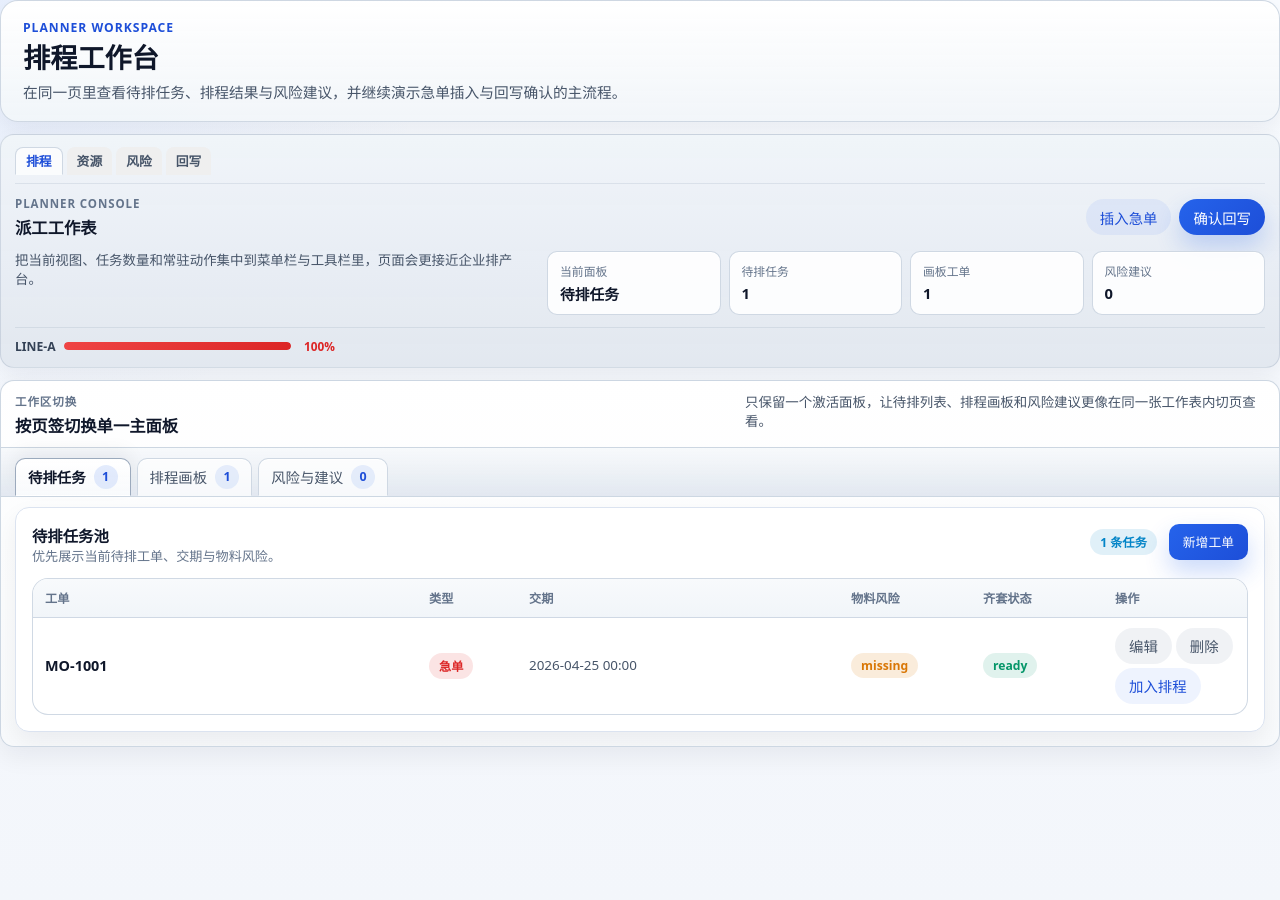
Test: PlannerWorkbenchView integration › 发布后首次查状态失败，再次打开弹窗刷新成功后会显示后端新状态
The width and height of the screenshot is (1280, 900).
Click the button with test id "open-publish-dialog" at (1222, 217), box [1179,199,1265,235]
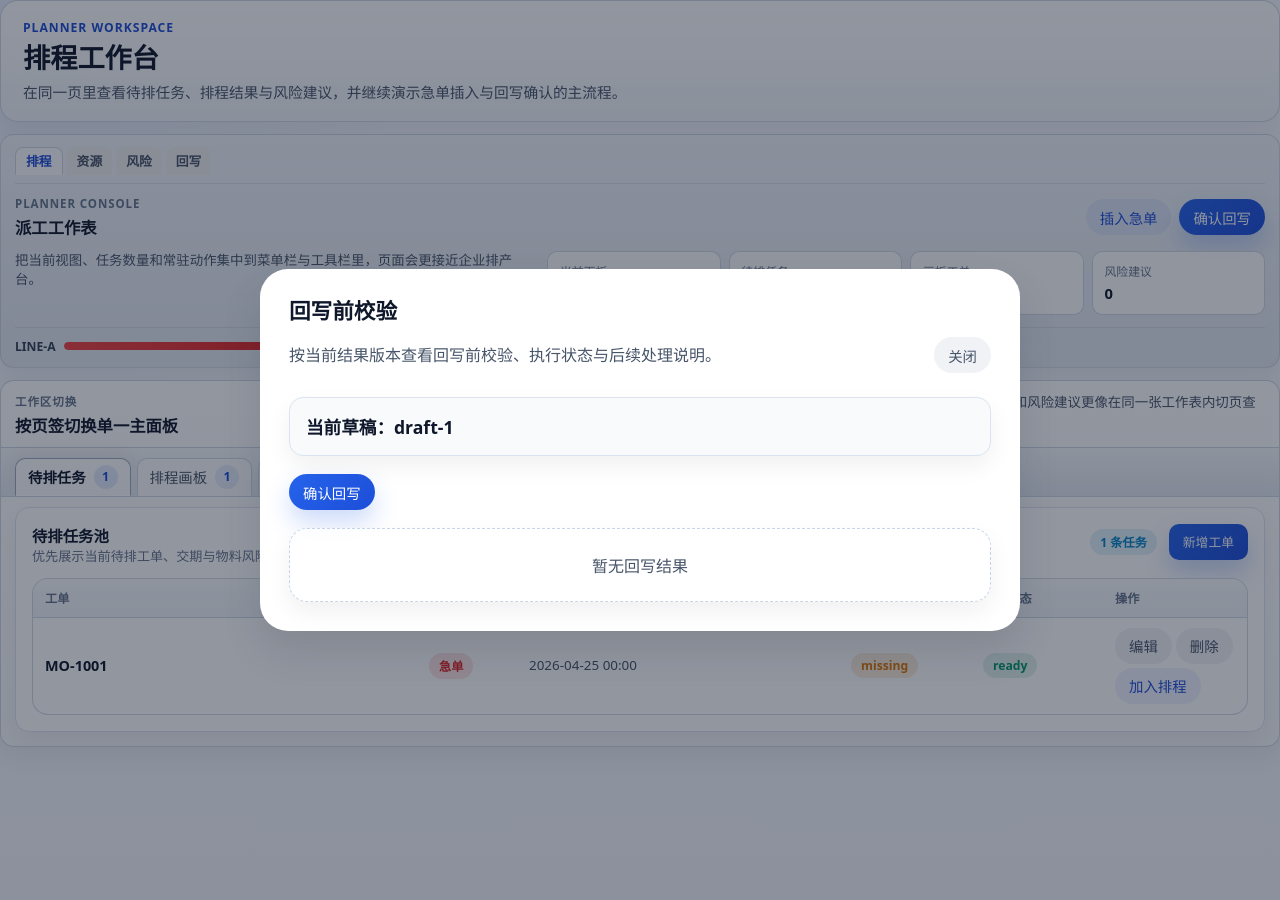
Click the button with test id "confirm-publish" at (332, 492), box [289,474,375,510]
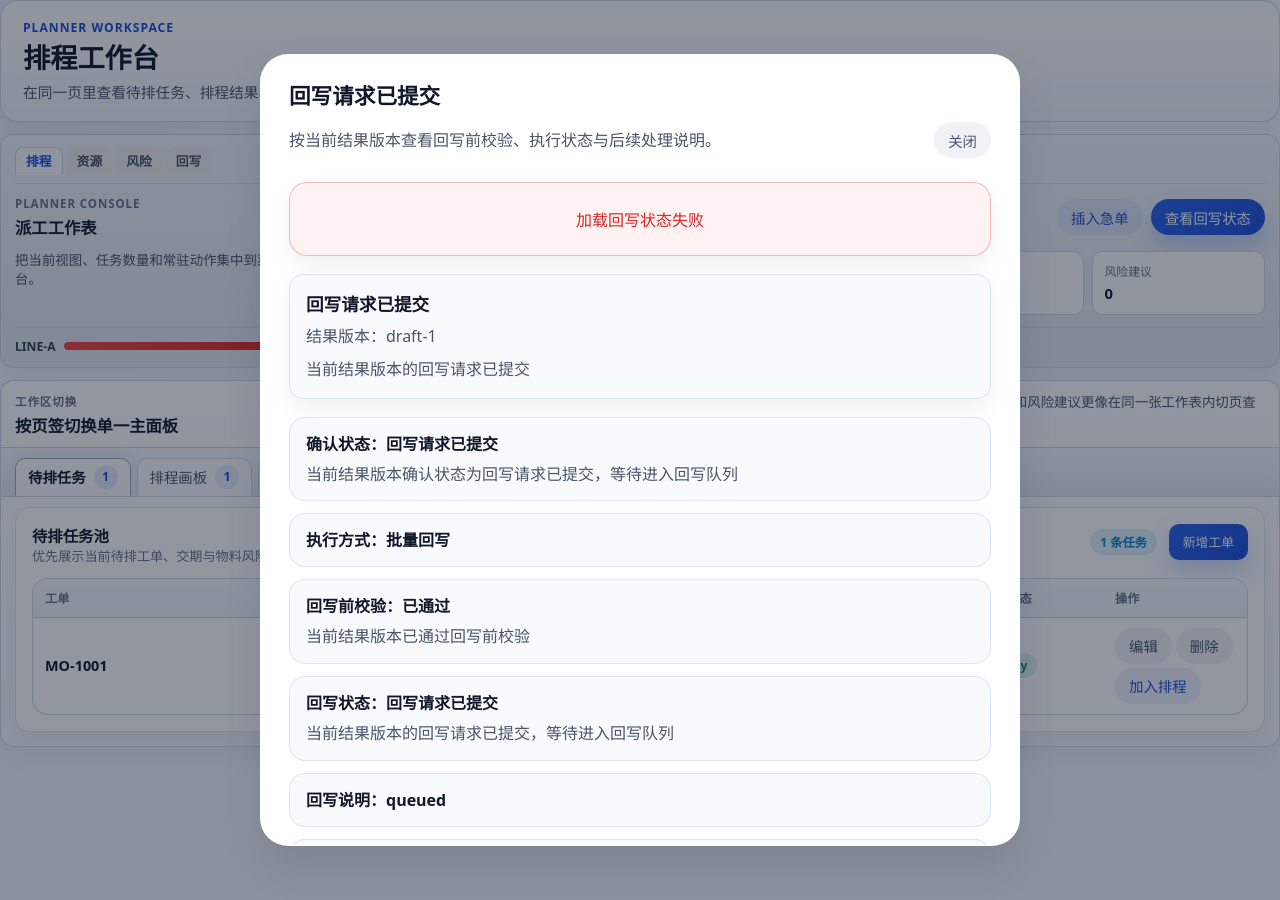
Expected: the dialog named "回写请求已提交" shows "加载回写状态失败", [576,209,704,231]
Expected: the dialog named "回写请求已提交" shows "当前结果版本的回写请求已提交", [306,358,530,380]
Click the button "关闭" at (963, 140), box [934,122,991,158]
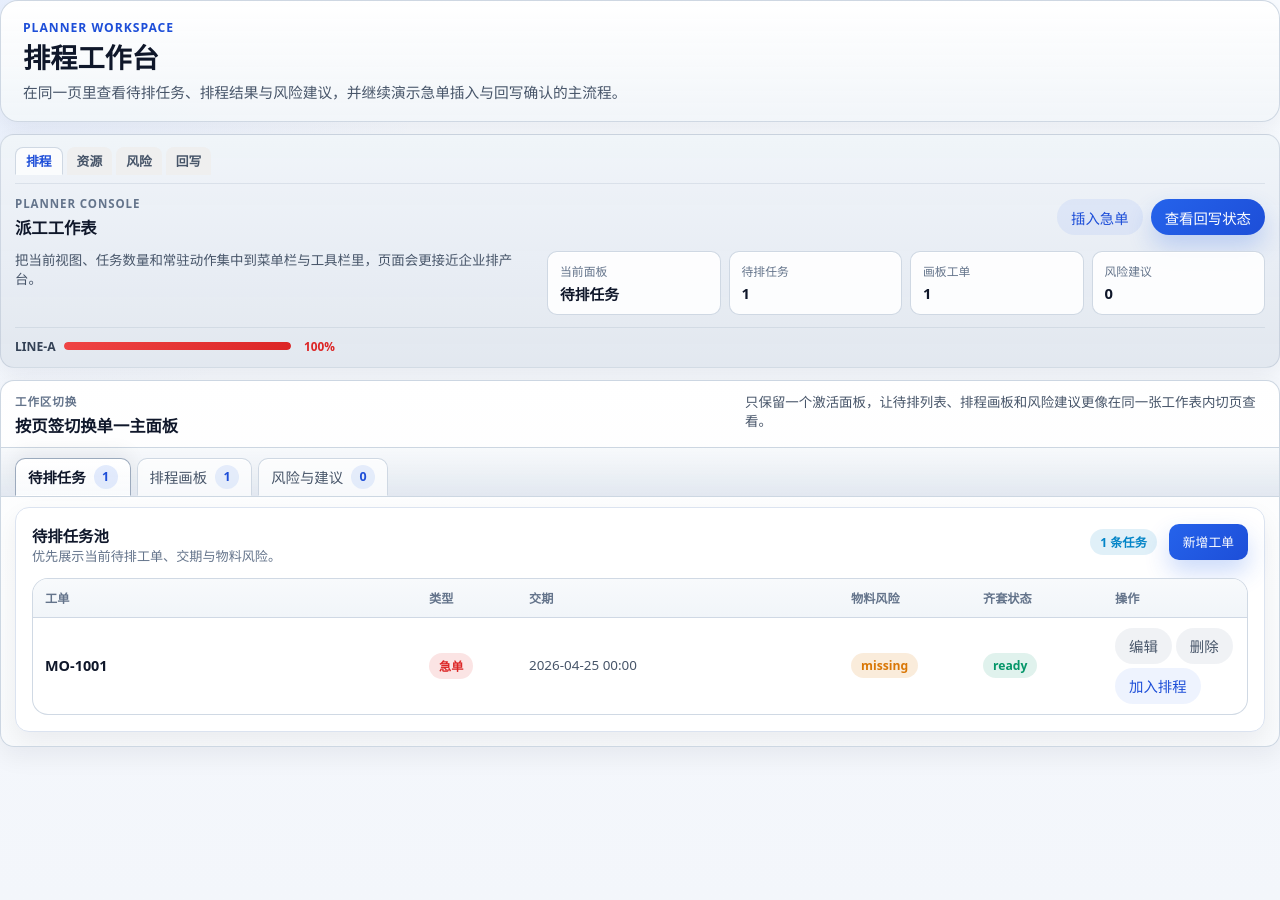
Click the button with test id "open-publish-dialog" at (1208, 217), box [1151,199,1265,235]
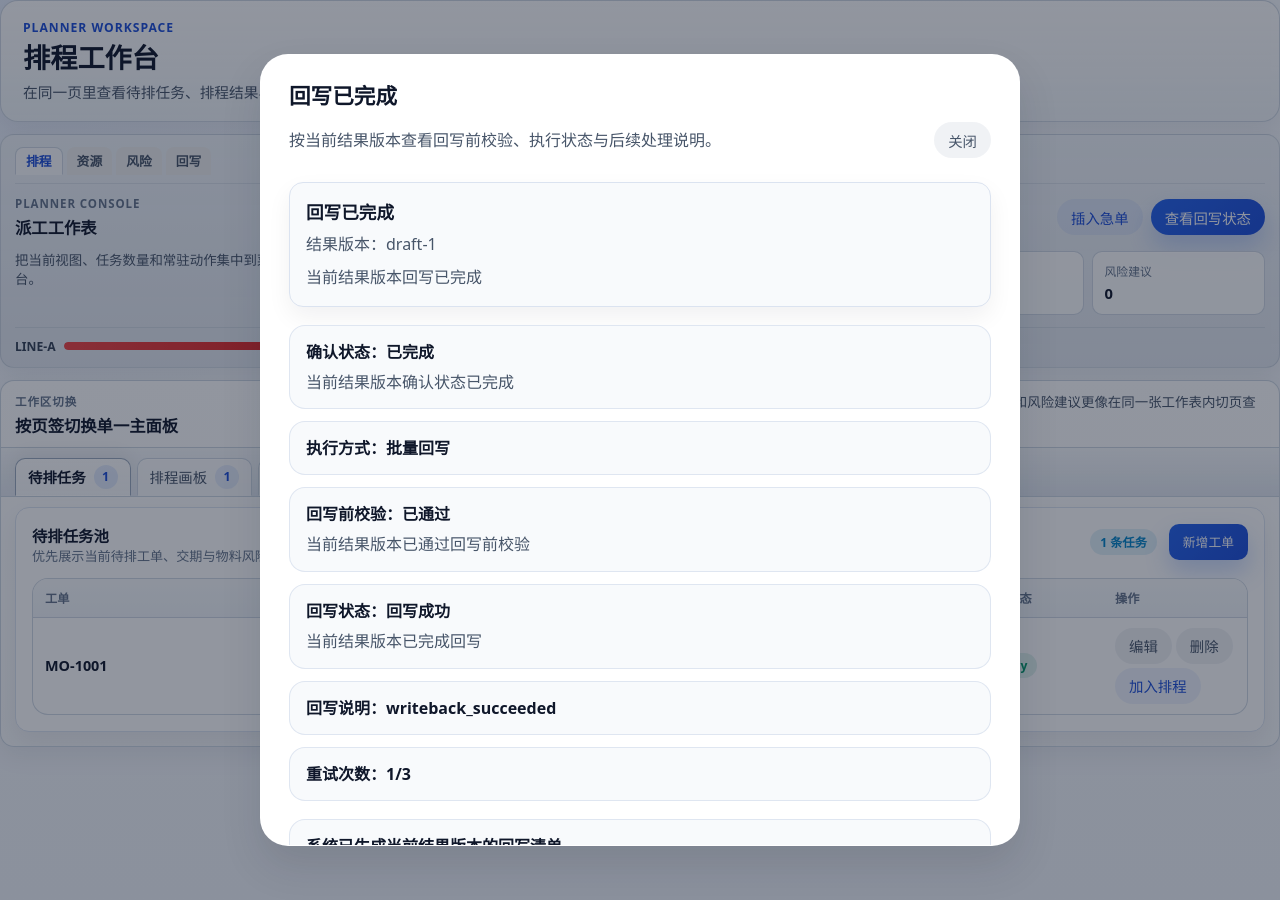
Expected: the dialog named "回写已完成" shows "回写已完成", [289,81,397,110]
Expected: the dialog named "回写已完成" shows "当前结果版本回写已完成", [306,266,482,288]
Expected: the dialog named "回写已完成" shows "回写说明：writeback_succeeded", [306,697,556,719]
